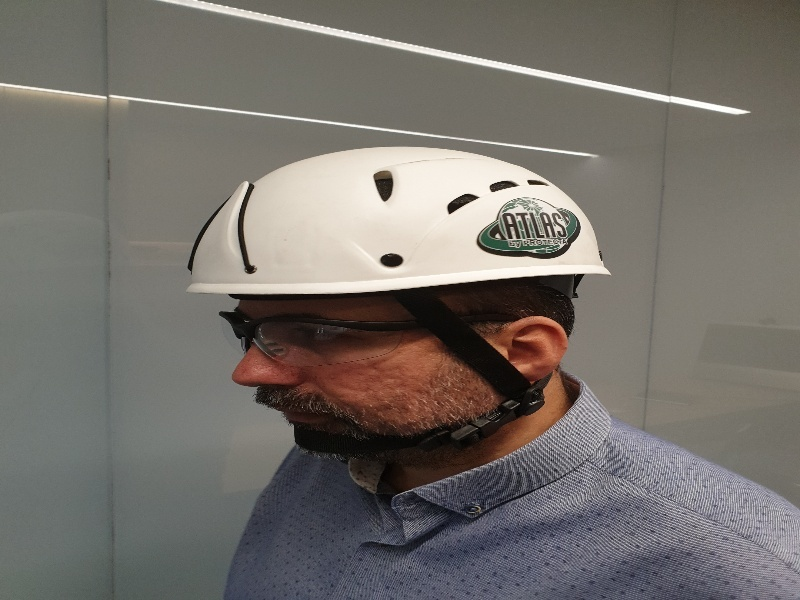Baret: (194, 156, 613, 278)
Gozluk: (216, 302, 492, 359)
